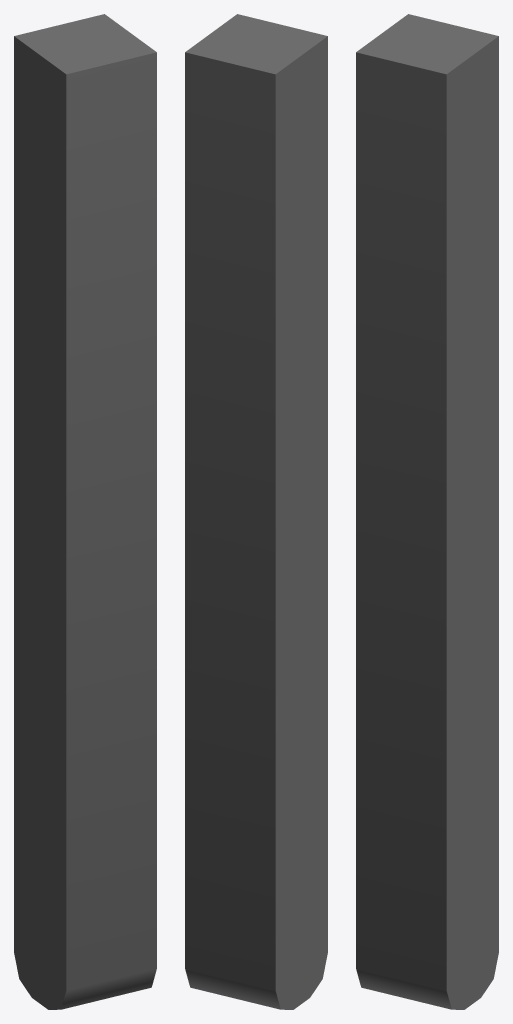
File: Alnair_Control_1_Base.obj
3 renders of one model, left to right at view 1: azimuth 30°, elevation 25°; view 2: azimuth 150°, elevation 25°; view 3: azimuth 330°, elevation 25°, orthographic.
Visible parts, largest first — view 1: Alnair_Control_1_Base; view 2: Alnair_Control_1_Base; view 3: Alnair_Control_1_Base.
Boxes of the visible parts, x1,y1,x2,y2 form: Alnair_Control_1_Base: (14,14,156,1009); Alnair_Control_1_Base: (185,14,327,1009); Alnair_Control_1_Base: (356,14,498,1009).
Bounding box in the file's own units: 0.025 × 0.25 × 0.025.
